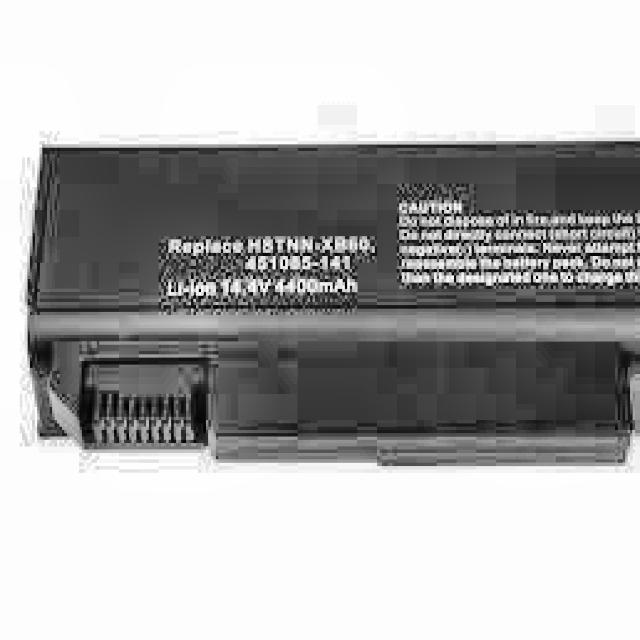Battery: (0, 131, 640, 489)
